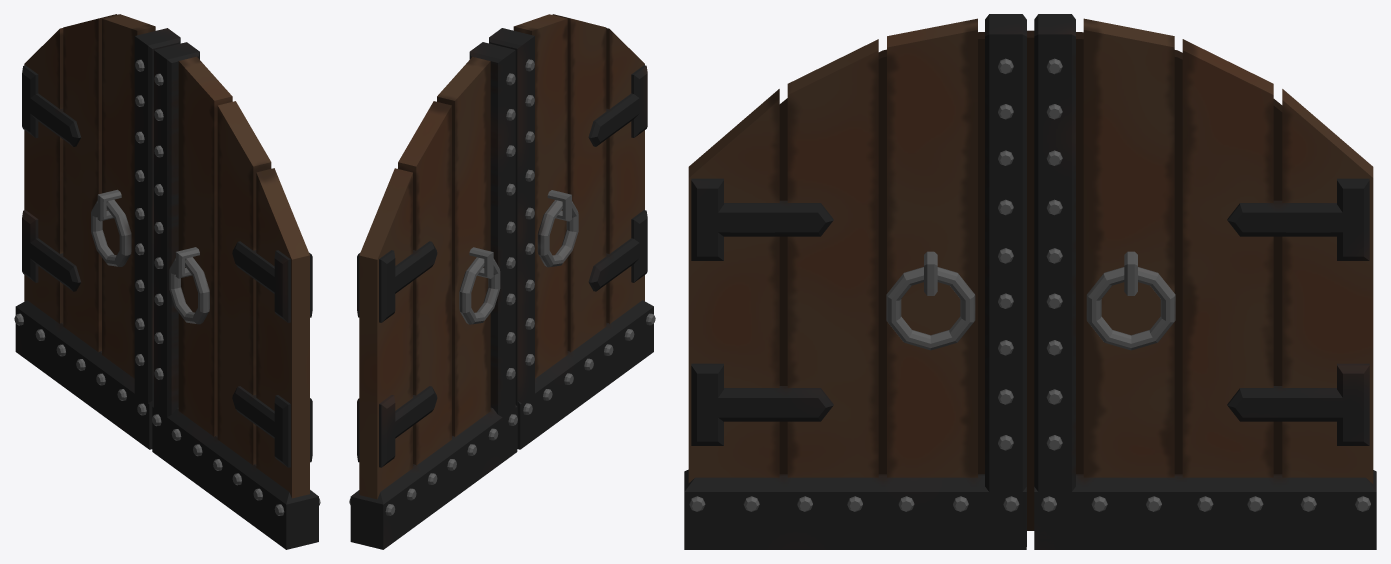
The model's file is porte.fbx.
The picture shows the model from 3 angles, left to right: view 1: azimuth 30°, elevation 25°; view 2: azimuth 150°, elevation 25°; view 3: azimuth 270°, elevation 25°; orthographic projection. The views are drawn at different scales.
Parts seen in each view (by area): view 1: pCube8; view 2: pCube8; view 3: pCube8.
Part boxes in pixels (x1,y1,x2,y2): pCube8: [14, 14, 320, 549]; pCube8: [349, 14, 655, 549]; pCube8: [684, 14, 1376, 549].
Bounding box in the file's own units: 29.19 × 193 × 235.
Materials: 1 (1 with a texture image).
